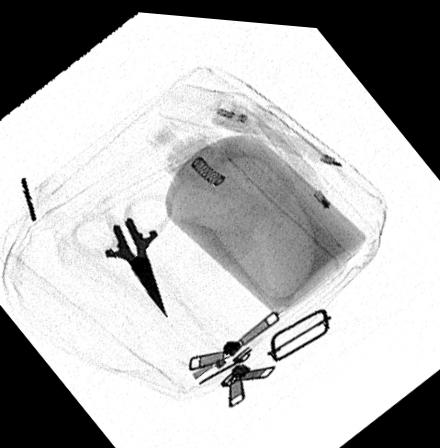Scissors: (70, 188, 174, 312)
